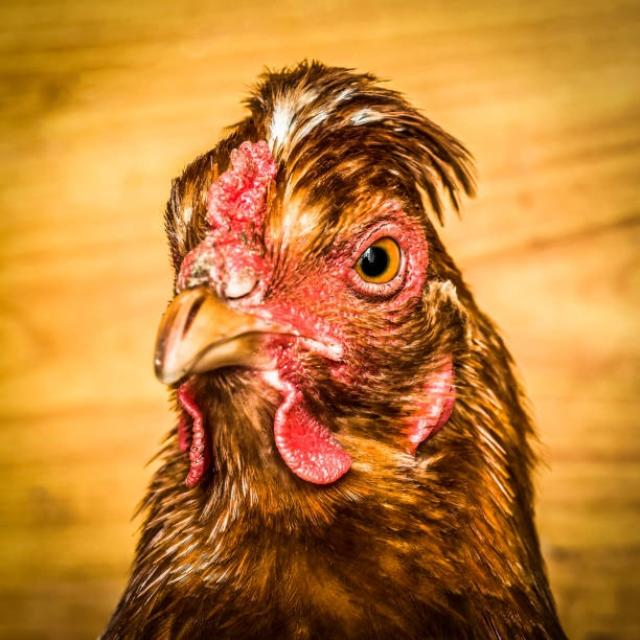Chicken: (102, 56, 568, 640)
